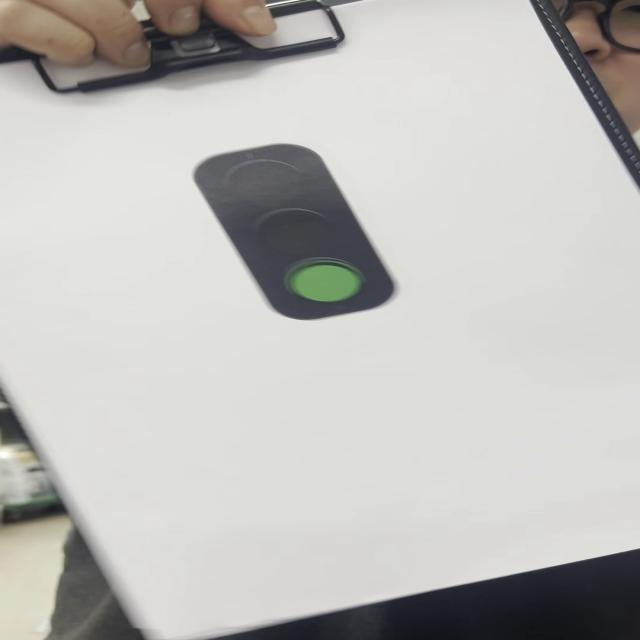green: (197, 145, 397, 322)
